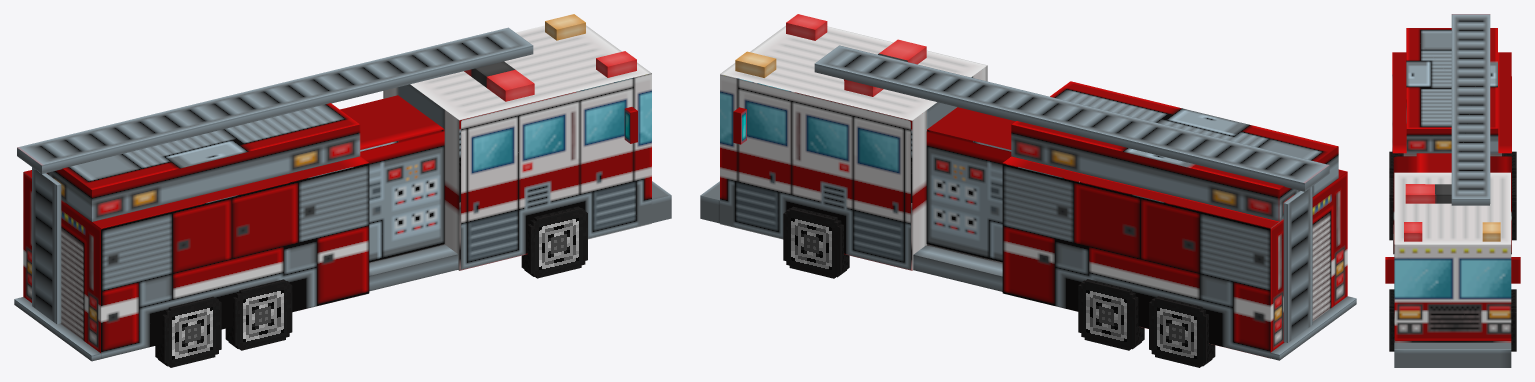
The model's file is BGN_FIRE TRUCK.fbx.
The picture shows the model from 3 angles, left to right: view 1: azimuth 30°, elevation 25°; view 2: azimuth 150°, elevation 25°; view 3: azimuth 270°, elevation 25°; orthographic projection. The views are drawn at different scales.
Visible parts, largest first — view 1: BGN_FIRE TRUCK, LR (1), LR (5), LR (3); view 2: BGN_FIRE TRUCK, LR (2), LR (6), LR (4); view 3: BGN_FIRE TRUCK, LR (1), LR (2), LR (6), LR (5), LR (4), LR (3).
Part boxes in pixels (x1,y1,x2,y2): BGN_FIRE TRUCK: (14,14,671,361); LR (1): (521,206,587,278); LR (5): (225,279,292,350); LR (3): (155,296,221,367); BGN_FIRE TRUCK: (700,14,1356,360); LR (2): (783,206,849,278); LR (6): (1078,279,1144,350); LR (4): (1149,296,1215,367); BGN_FIRE TRUCK: (1385,14,1520,367); LR (1): (1389,289,1394,351); LR (2): (1511,289,1516,351); LR (6): (1512,178,1516,240); LR (5): (1389,178,1393,240); LR (4): (1502,151,1516,177); LR (3): (1389,151,1403,177).
Bounding box in the file's own units: 901 × 282 × 231.
Materials: 2 (2 with a texture image).
